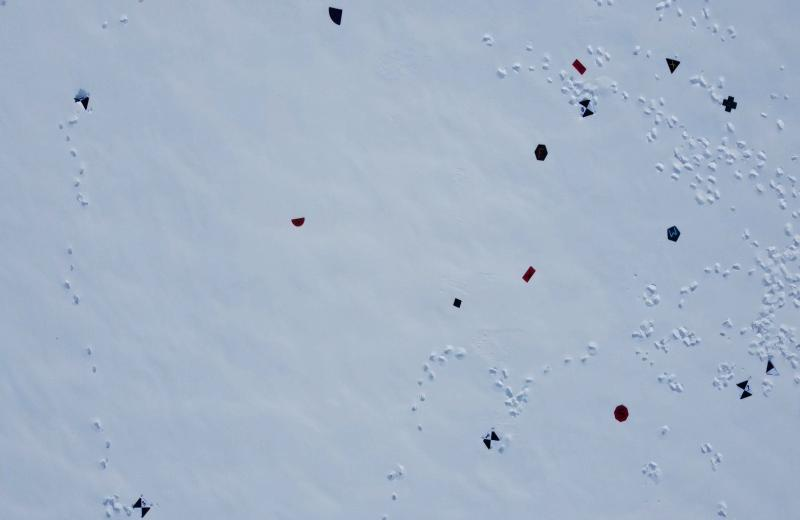Cross: (722, 94, 738, 113)
Hexagon: (532, 144, 548, 162)
Octagon: (613, 404, 631, 425)
Pentagon: (666, 224, 682, 243)
Quarter Circle: (326, 6, 344, 27)
Rectangle: (522, 266, 536, 284), (572, 58, 586, 75)
Semi Circle: (292, 215, 307, 228)
Square: (451, 297, 463, 310)
Triangle: (666, 54, 682, 74)
